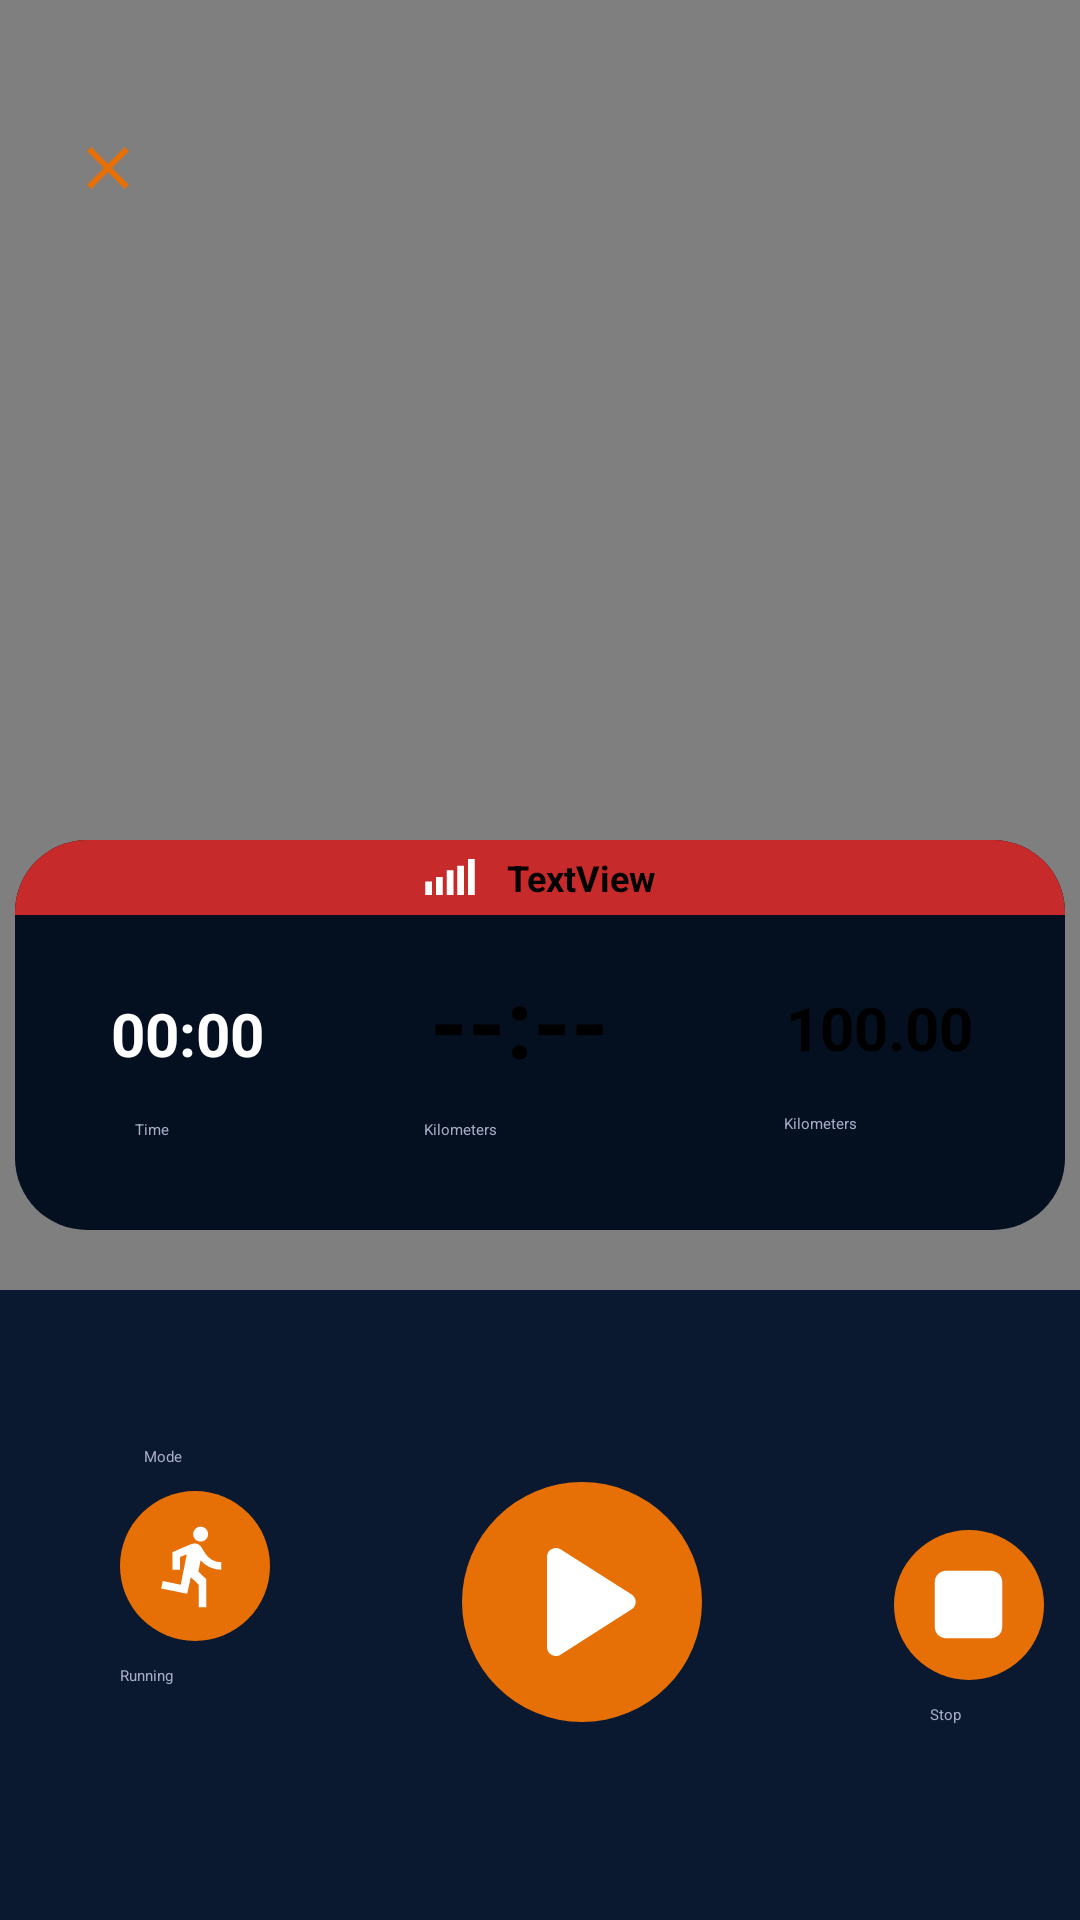

Icon click points for this 1080*1920 phone screenshot, format [x,y]:
close: [108,168]
network: [450,877]
play: [582,1602]
